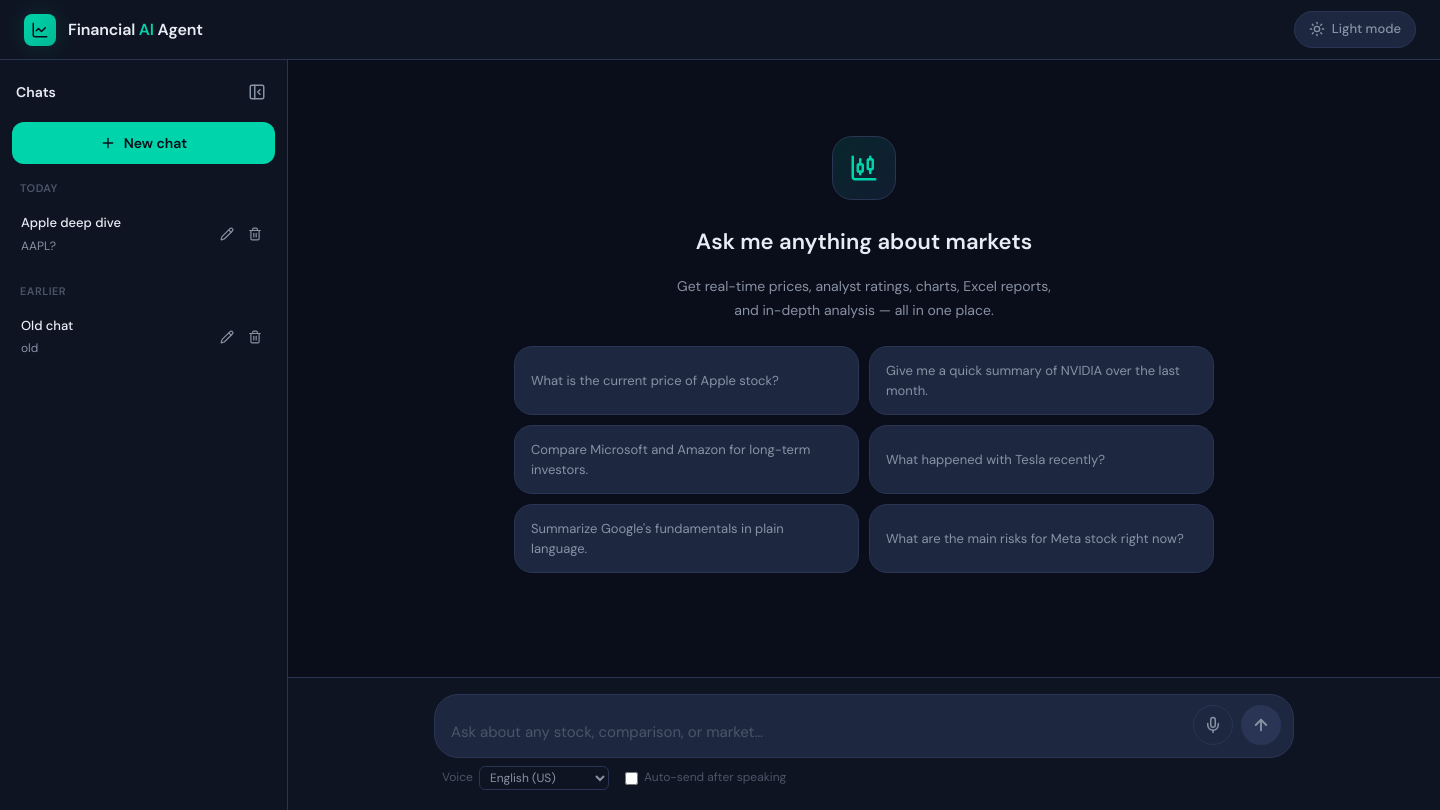
Test: App sidebar › renames a chat with PATCH /sessions/{id}
Expected: the text "Apple deep dive" is shown, x1=21 y1=214 x2=121 y2=231
Click the button named "Rename Apple deep dive" at (227, 234), box x1=214 y1=222 x2=240 y2=248
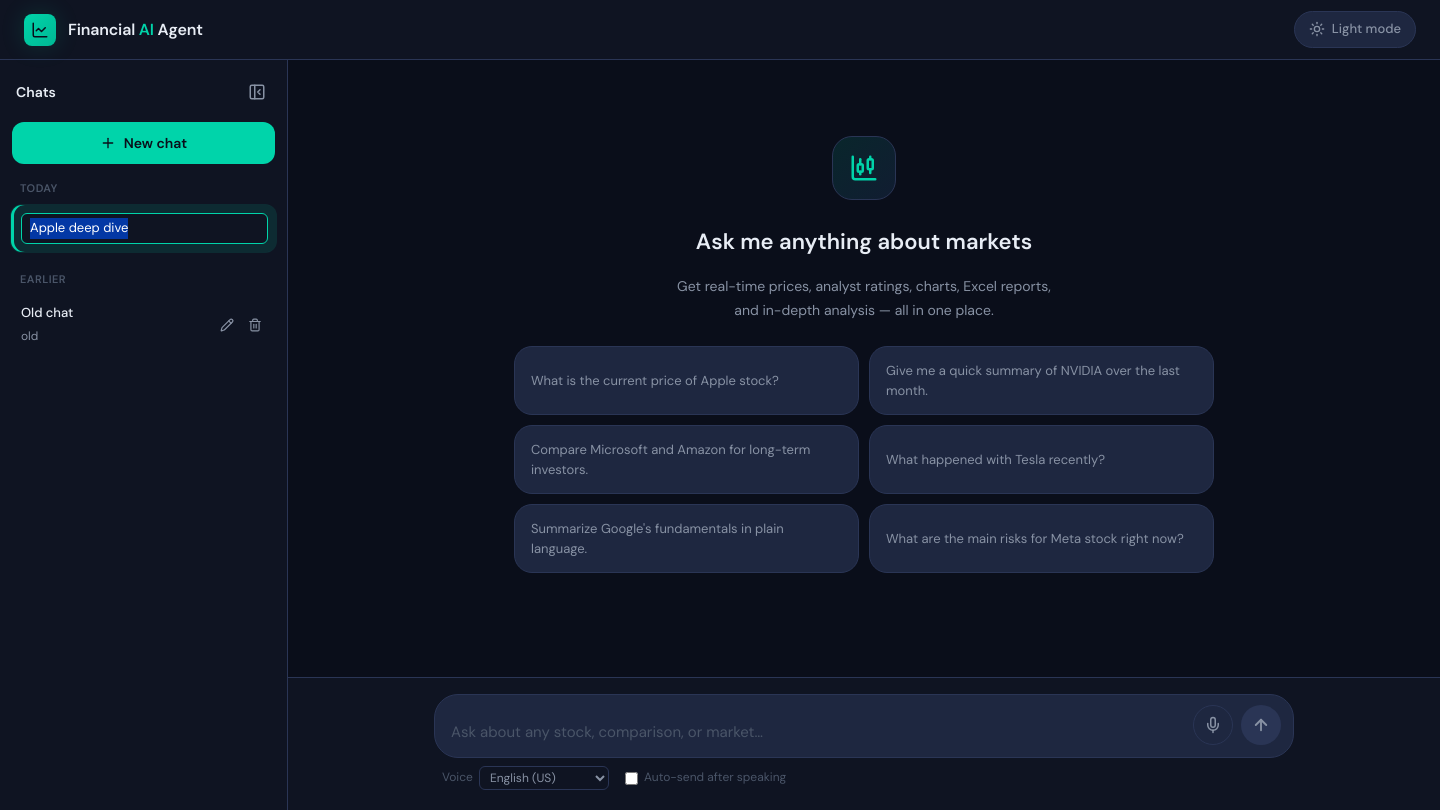
Replace the text in the field named "Chat title" with "AAPL notes" at (144, 228), box x1=21 y1=213 x2=268 y2=244
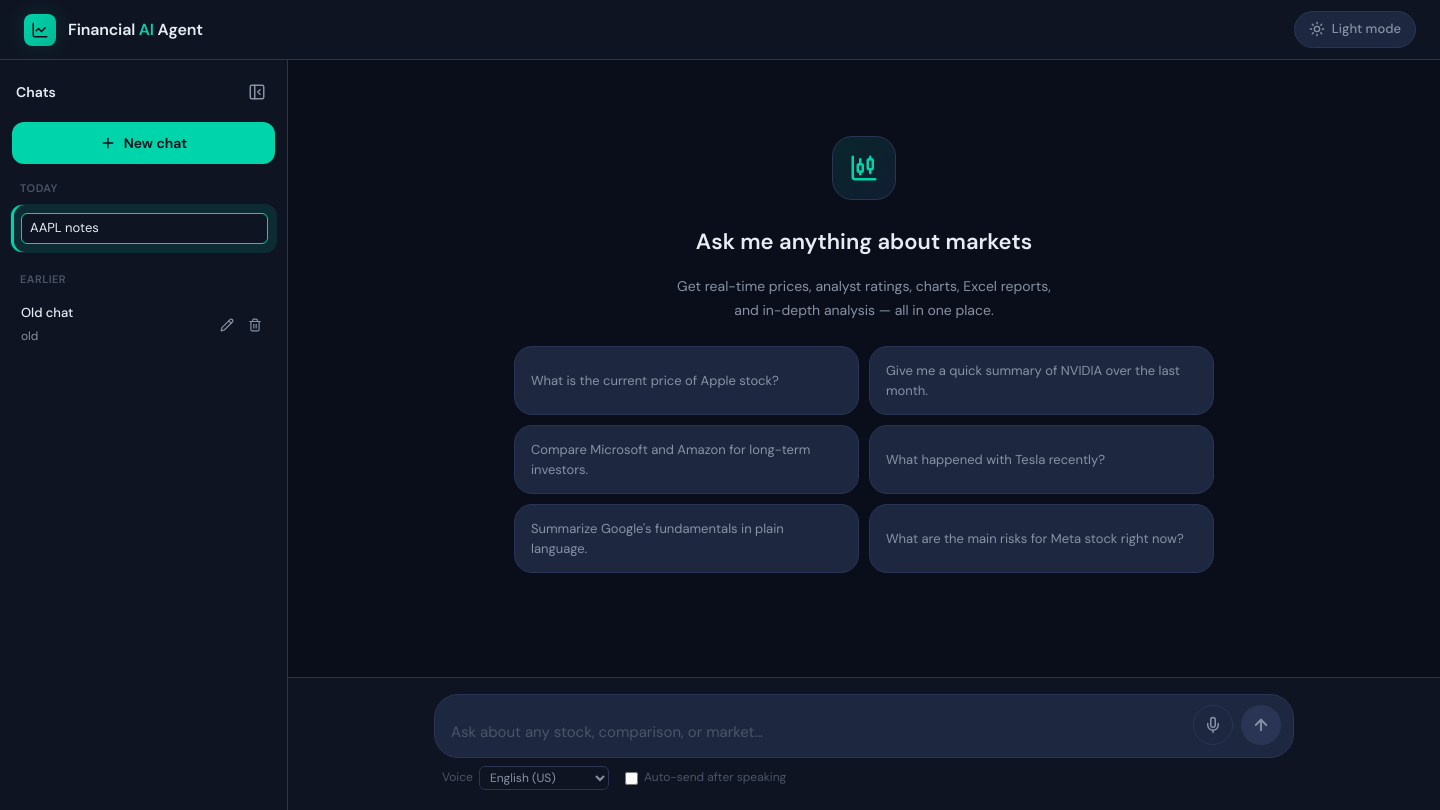
Press Enter in the field named "Chat title", box x1=21 y1=213 x2=268 y2=244
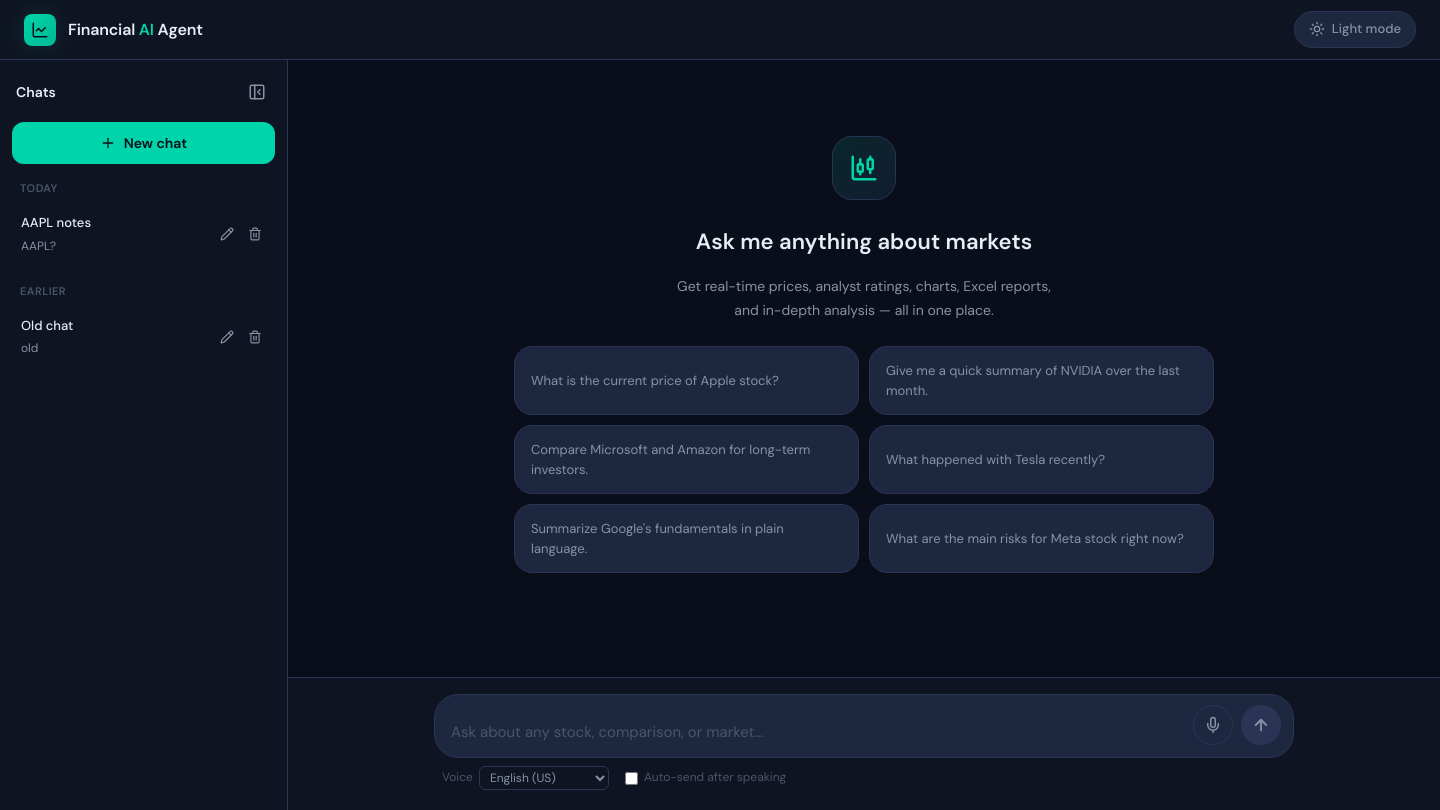
Expected: the text "AAPL notes" is shown, x1=21 y1=214 x2=91 y2=231
